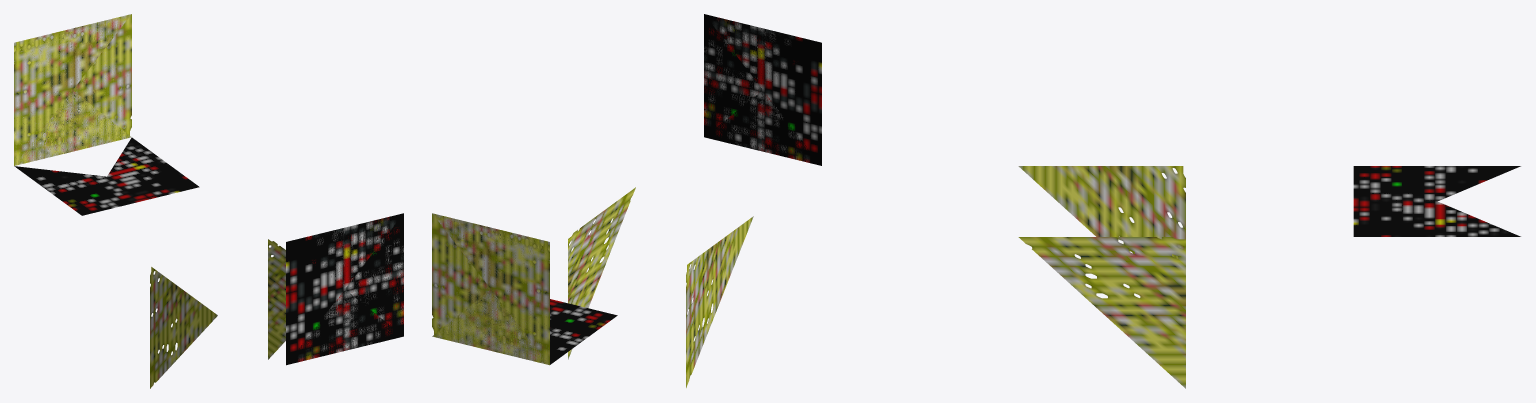
The model's file is town_geometry_type_21.obj.
The picture shows the model from 3 angles, left to right: view 1: azimuth 30°, elevation 25°; view 2: azimuth 150°, elevation 25°; view 3: azimuth 270°, elevation 25°; orthographic projection. The views are drawn at different scales.
Visible parts, largest first — view 1: face_list_003, face_list_000, face_list_011, face_list_012, face_list_002, face_list_005, face_list_025, face_list_024; view 2: face_list_000, face_list_011, face_list_003, face_list_012, face_list_002, face_list_005, face_list_025, face_list_024; view 3: face_list_003.
Boxes of the visible parts, x1=… form: face_list_003: x1=14, y1=137, x2=285, y2=388; face_list_000: x1=286, y1=213, x2=403, y2=364; face_list_011: x1=14, y1=14, x2=131, y2=165; face_list_012: x1=14, y1=14, x2=131, y2=165; face_list_002: x1=287, y1=214, x2=403, y2=364; face_list_005: x1=287, y1=213, x2=403, y2=335; face_list_025: x1=18, y1=28, x2=131, y2=163; face_list_024: x1=14, y1=43, x2=115, y2=162; face_list_000: x1=704, y1=14, x2=821, y2=165; face_list_011: x1=432, y1=213, x2=549, y2=365; face_list_003: x1=550, y1=187, x2=753, y2=387; face_list_012: x1=432, y1=213, x2=549, y2=364; face_list_002: x1=704, y1=14, x2=821, y2=165; face_list_005: x1=704, y1=14, x2=820, y2=136; face_list_025: x1=432, y1=232, x2=545, y2=363; face_list_024: x1=446, y1=242, x2=549, y2=361; face_list_003: x1=1018, y1=166, x2=1520, y2=388.
Size of the model in its own units: 64 by 128 by 256.
Materials: 10 (10 with a texture image).
